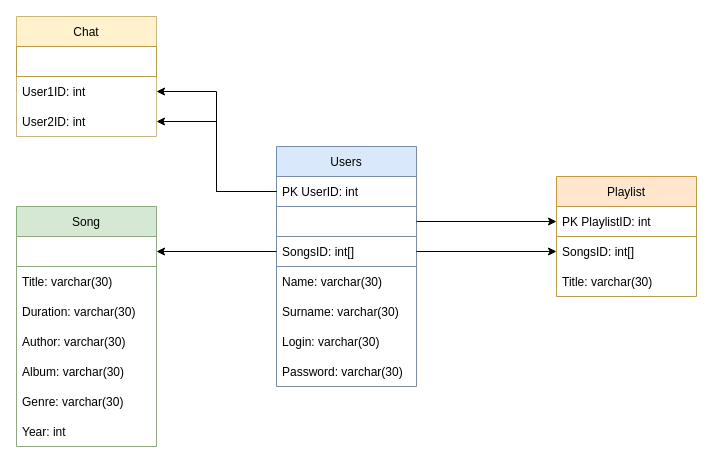
This 713x463 diagram has some shape labels left out. The centre of each missing label's shape, as x and y in pixels:
"PK ChatID: int" belongs at pixel 86 61.
"PK SongID: int" belongs at pixel 86 251.
"PlaylistsID: int[]" belongs at pixel 346 221.
